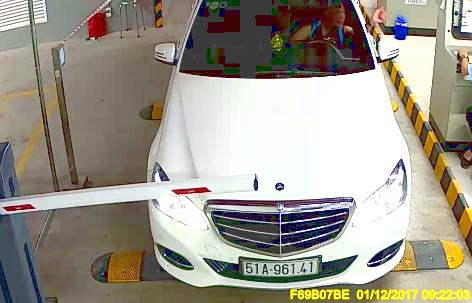plate: (239, 256, 322, 277)
